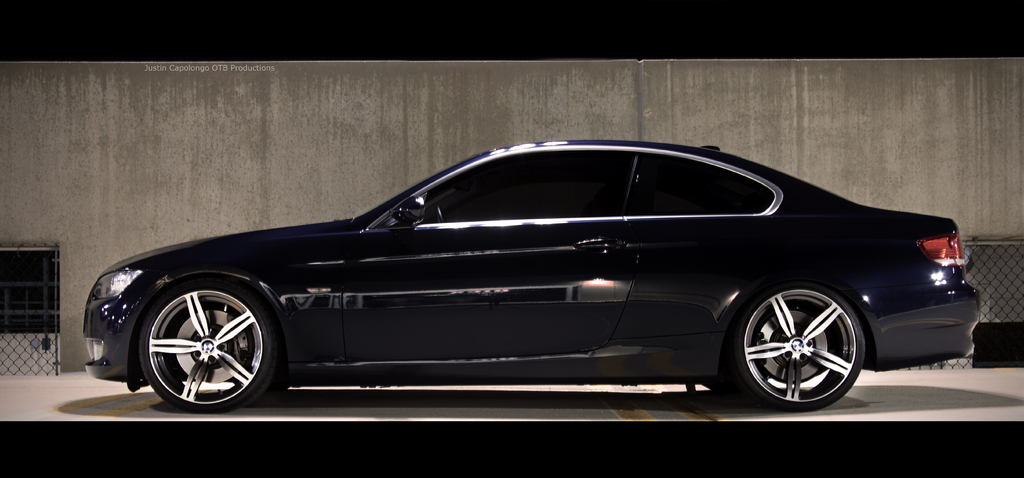Car: (216, 156, 965, 408)
